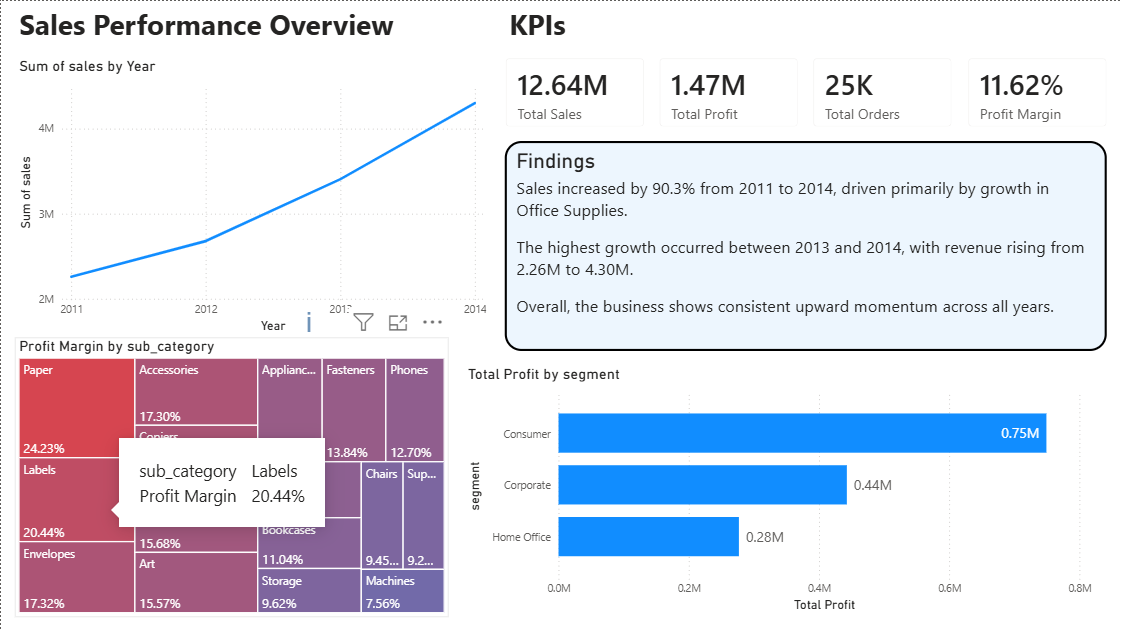

The dashboard page shown, as its layout file describes it:
{"tool":"powerbi","page":{"name":"Page 1","canvas":[1280,720],"ordinal":0},"visuals":[{"type":"cardVisual","fields":{"Data":["dashboard_data.Total Sales"]},"box":[560,48,192,112],"z":0},{"type":"cardVisual","fields":{"Data":["dashboard_data.Total Orders"]},"box":[912,48,192,112],"z":1000},{"type":"cardVisual","fields":{"Data":["dashboard_data.Profit Margin"]},"box":[1088,48,192,112],"z":2000},{"type":"cardVisual","fields":{"Data":["dashboard_data.Total Profit"]},"box":[736,48,192,112],"z":3000},{"type":"lineChart","fields":{"Category":["dashboard_data.month.Variation.Date Hierarchy.Year","dashboard_data.month.Variation.Date Hierarchy.Month"],"Y":["Sum(dashboard_data.sales)"]},"box":[16,64,544,320],"z":4000},{"type":"textbox","box":[575.7,0,304.3,64.3],"z":5000},{"type":"treemap","fields":{"Values":["dashboard_data.Profit Margin"],"Group":["dashboard_data.sub_category"]},"box":[16,384,496,320],"z":6000},{"type":"textbox","title":"Findings","box":[576,160,688,240],"z":7000},{"type":"barChart","fields":{"Category":["dashboard_data.segment"],"Y":["dashboard_data.Total Profit"]},"box":[528,416,736,288],"z":8000},{"type":"textbox","box":[15.7,0,448.6,64.3],"z":9000}]}

Visuals, with their boxes in screenshot pixels (x1, y1, x2, y2), scaled from the page's 1280x720 canvas onto the 1121x630 screenshot:
cardVisual - dashboard_data.Total Sales: (x1=490, y1=42, x2=659, y2=140)
cardVisual - dashboard_data.Total Orders: (x1=799, y1=42, x2=967, y2=140)
cardVisual - dashboard_data.Profit Margin: (x1=953, y1=42, x2=1120, y2=140)
cardVisual - dashboard_data.Total Profit: (x1=645, y1=42, x2=813, y2=140)
lineChart - dashboard_data.month.Variation.Date Hierarchy.Year x dashboard_data.month.Variation.Date Hierarchy.Month: (x1=14, y1=56, x2=490, y2=336)
textbox: (x1=504, y1=0, x2=771, y2=56)
treemap - dashboard_data.Profit Margin x dashboard_data.sub_category: (x1=14, y1=336, x2=448, y2=616)
"Findings" textbox: (x1=504, y1=140, x2=1107, y2=350)
barChart - dashboard_data.segment x dashboard_data.Total Profit: (x1=462, y1=364, x2=1107, y2=616)
textbox: (x1=14, y1=0, x2=407, y2=56)
